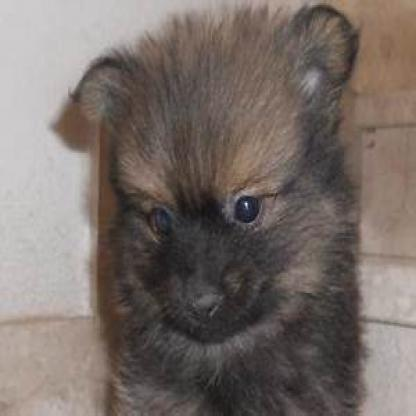dog: (69, 0, 365, 415)
